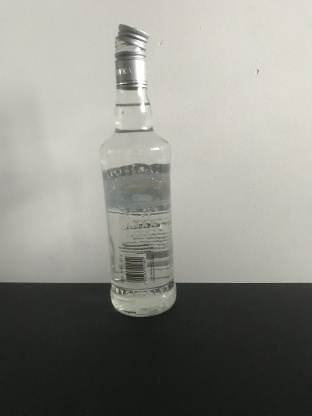nakretka: (113, 21, 150, 90)
